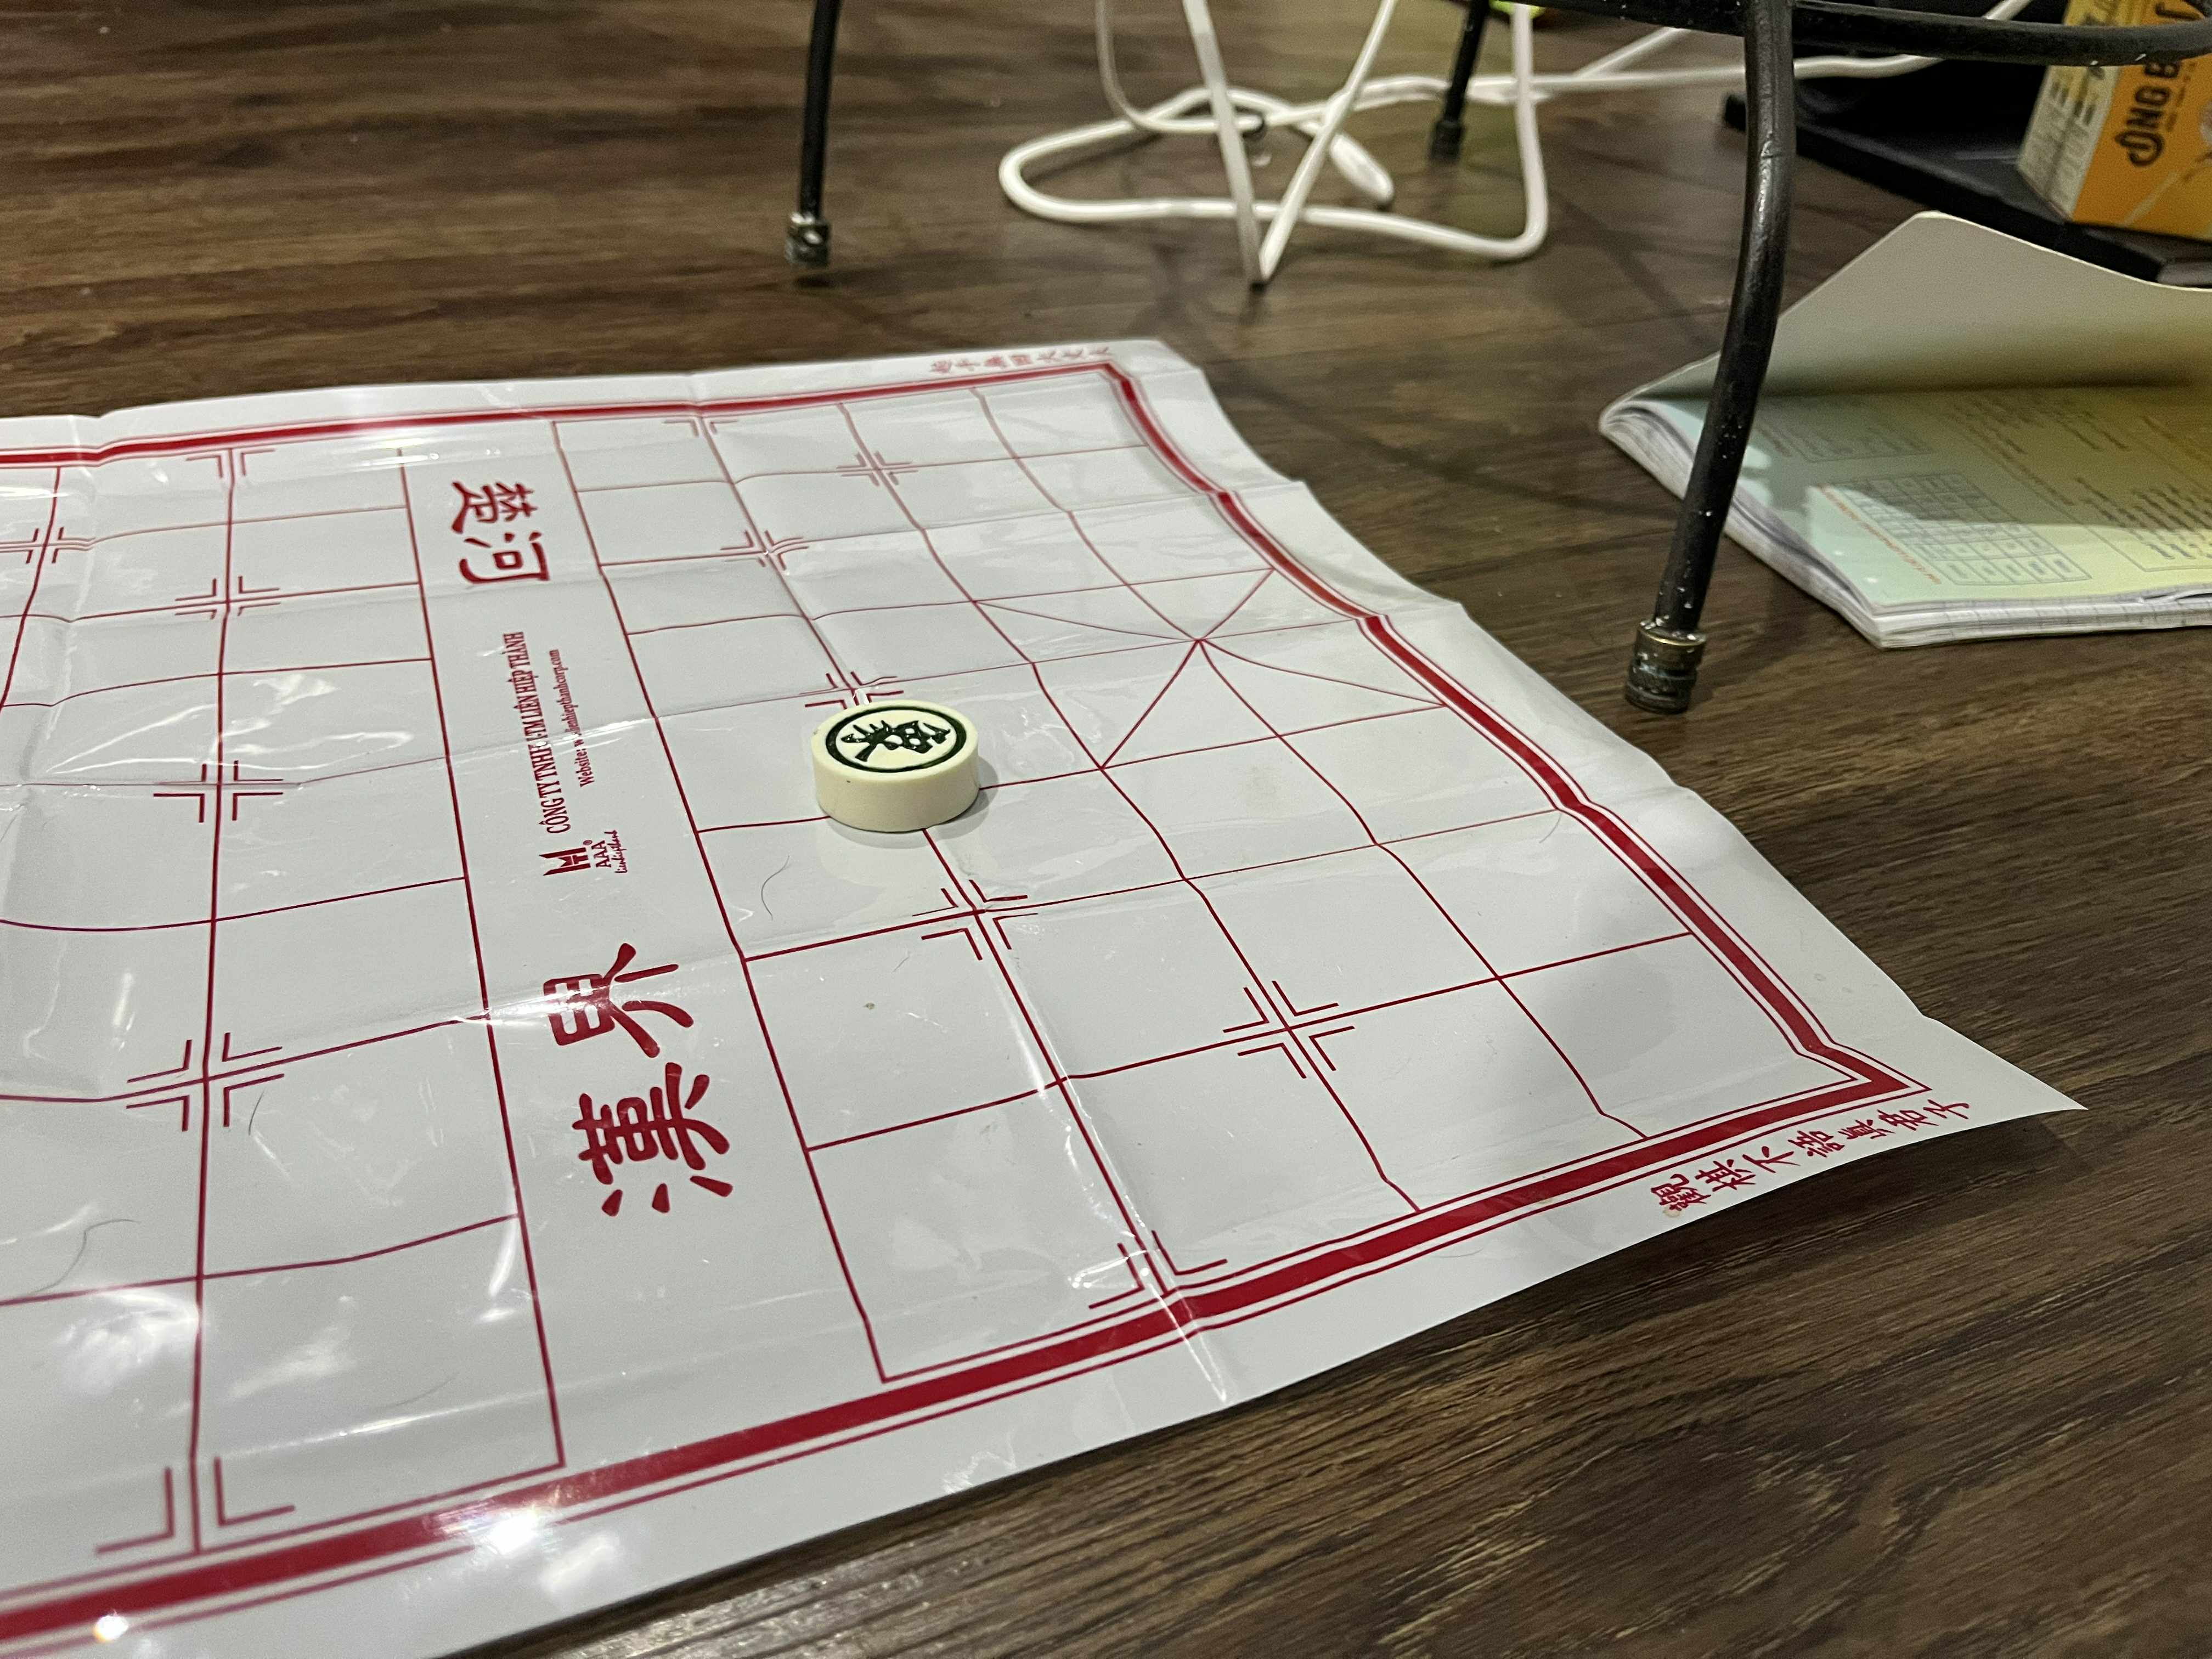black-elephant: (813, 699, 979, 781)
